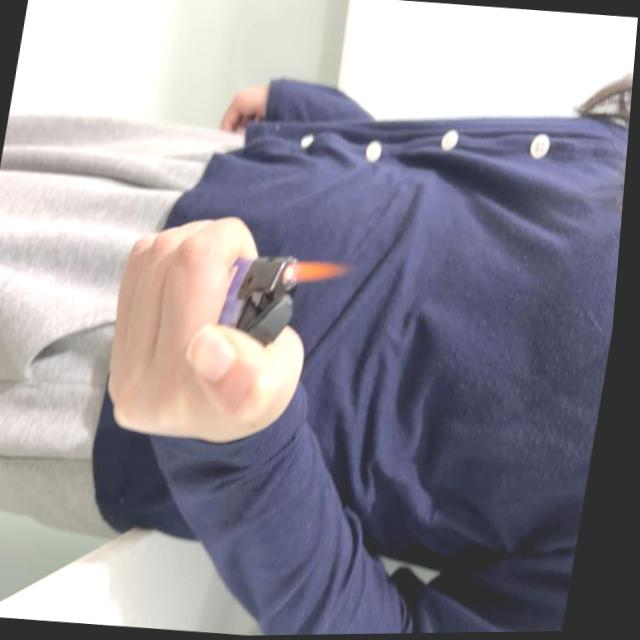helmet: (283, 259, 356, 294)
